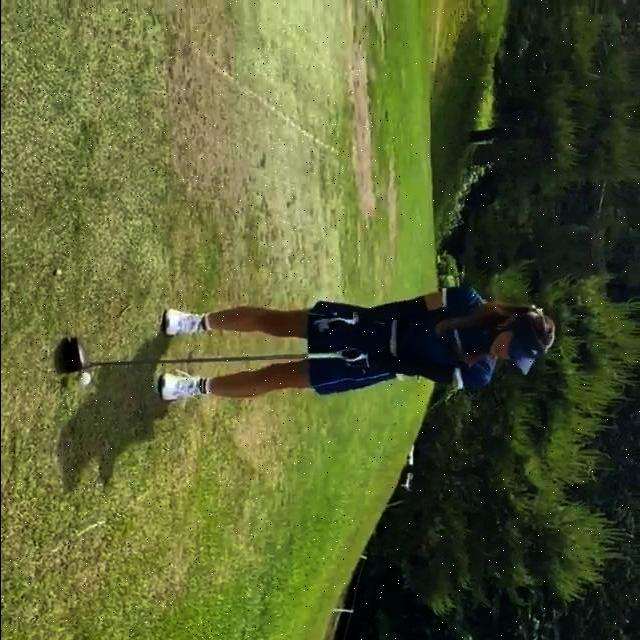golf ball: (76, 371, 90, 385)
golf club-handle: (59, 338, 338, 372)
golf club-head: (59, 339, 88, 373)
